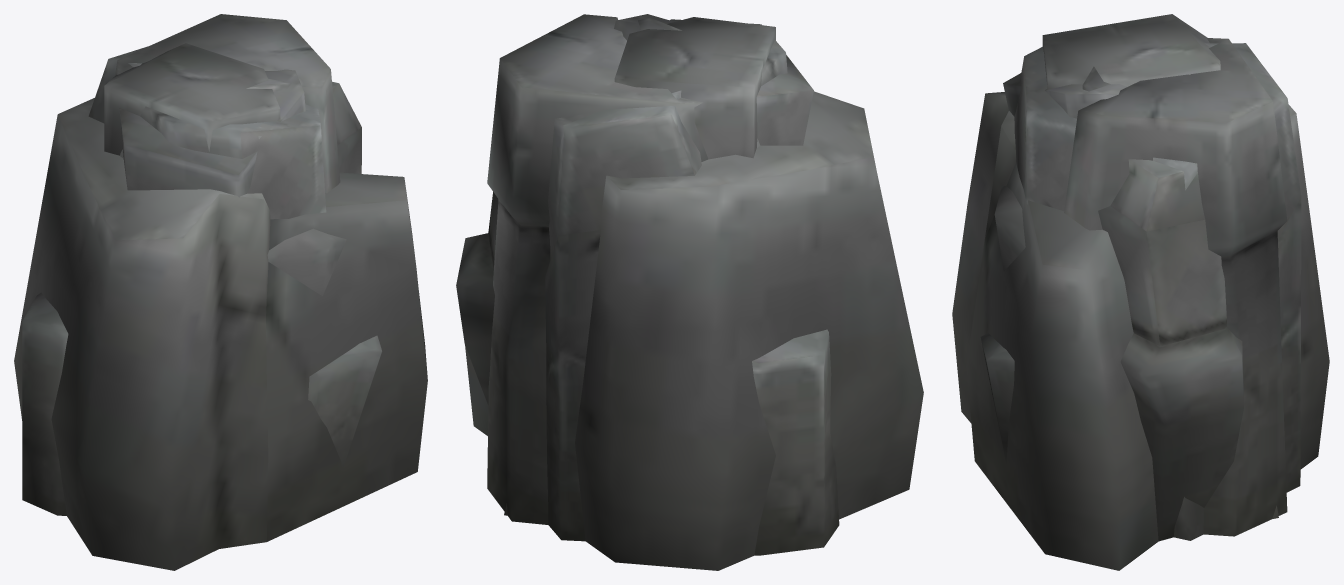
File: env_kaya.gltf
3 renders of one model, left to right at view 1: azimuth 30°, elevation 25°; view 2: azimuth 150°, elevation 25°; view 3: azimuth 270°, elevation 25°, orthographic. The views are drawn at different scales.
Parts seen in each view (by area): view 1: KAYA_6, KAYA_3, KAYA_1, KAYA_2, KAYA_4; view 2: KAYA_6, KAYA_2, KAYA_3, KAYA_1, KAYA_4; view 3: KAYA_6, KAYA_2, KAYA_3, KAYA_1, KAYA_4.
Part boxes in pixels (box(x1,y1,x2,y2)): KAYA_6: box(14, 98, 427, 570); KAYA_3: box(22, 43, 361, 515); KAYA_1: box(88, 46, 381, 466); KAYA_2: box(115, 14, 346, 296); KAYA_4: box(119, 69, 305, 197); KAYA_6: box(465, 91, 923, 570); KAYA_2: box(487, 14, 708, 524); KAYA_3: box(456, 17, 839, 555); KAYA_1: box(545, 19, 787, 541); KAYA_4: box(504, 14, 813, 515); KAYA_6: box(952, 92, 1329, 570); KAYA_2: box(994, 38, 1287, 536); KAYA_3: box(1042, 14, 1243, 541); KAYA_1: box(980, 43, 1301, 540); KAYA_4: box(1003, 73, 1278, 518).
Size of the model in its own units: 1 by 1 by 0.8268.
Materials: 1 (1 with a texture image).
